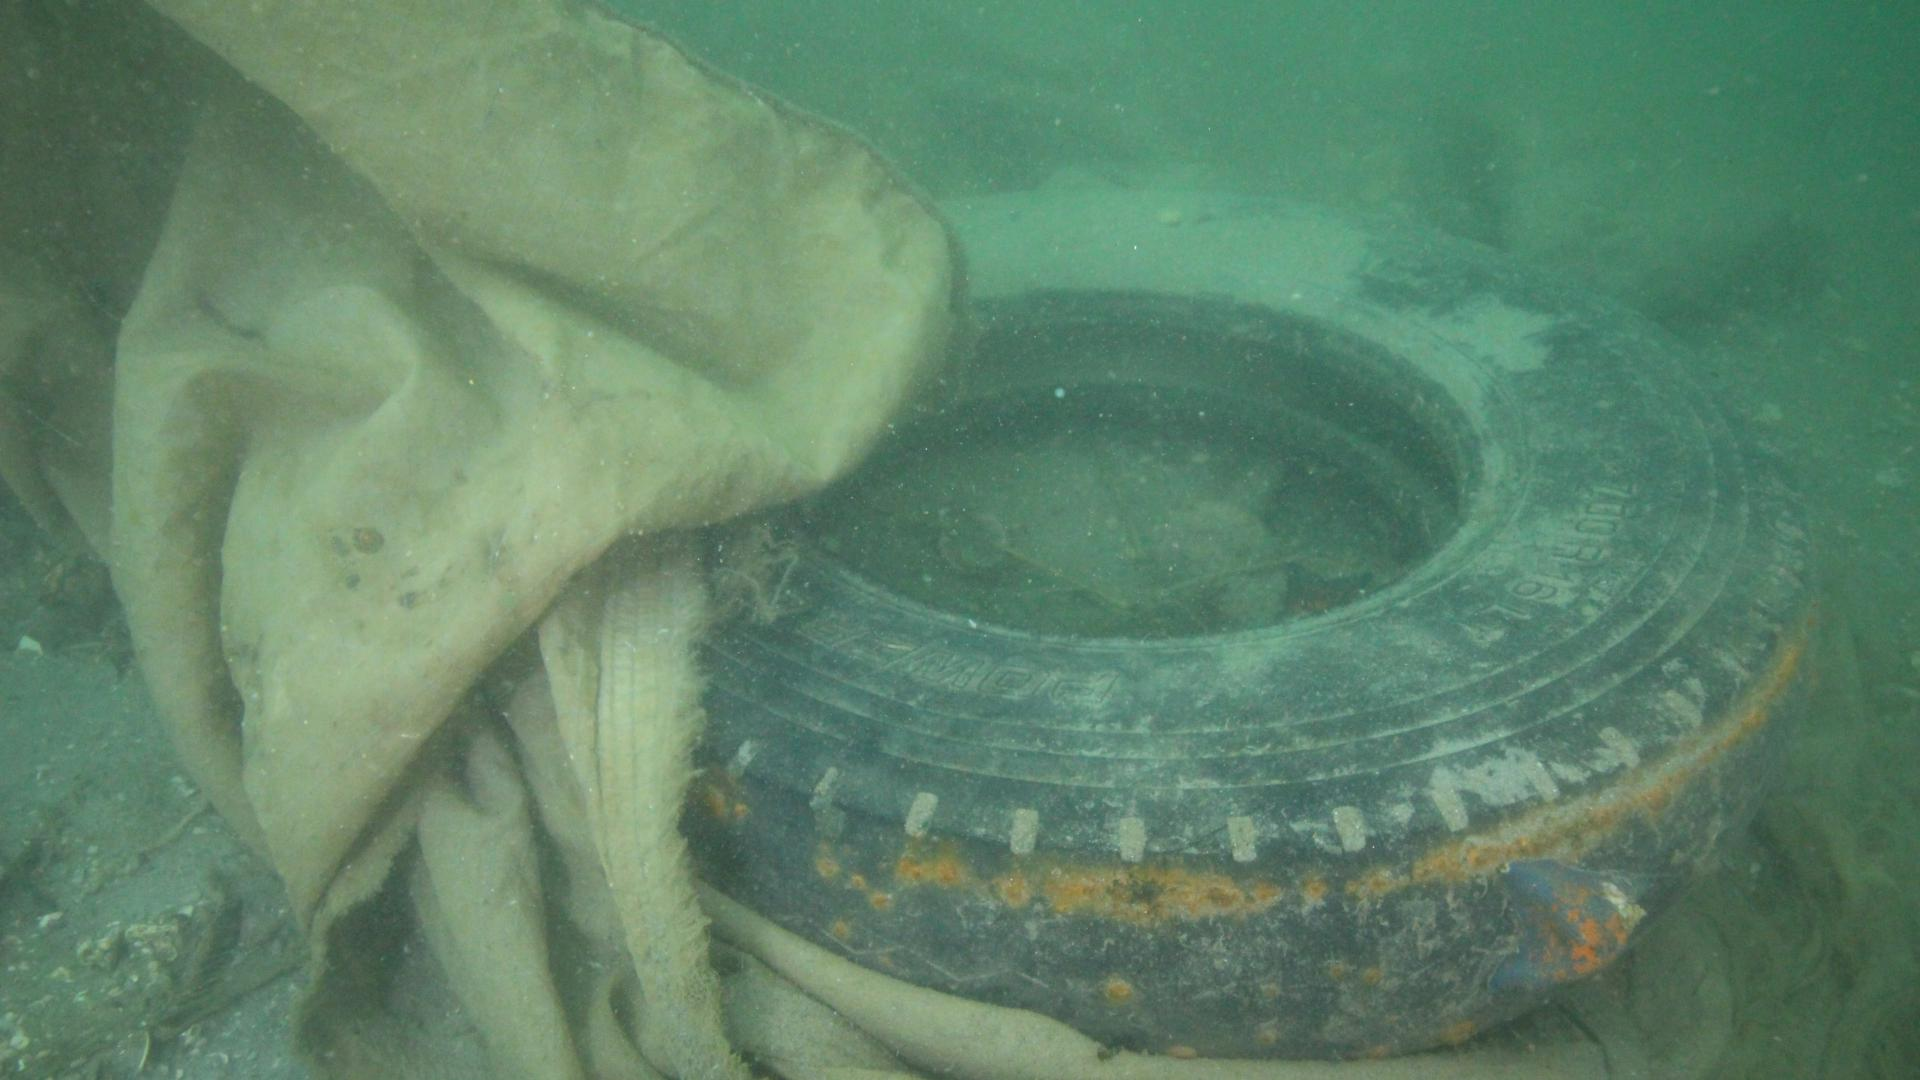tire: (679, 182, 1815, 1064)
